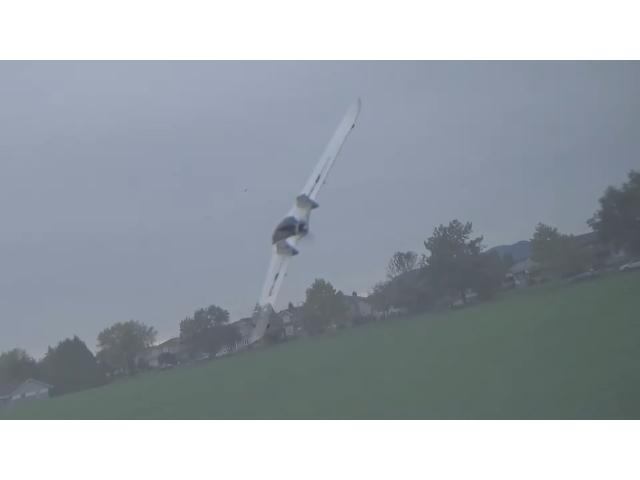Anti-Drone: (244, 97, 358, 345)
